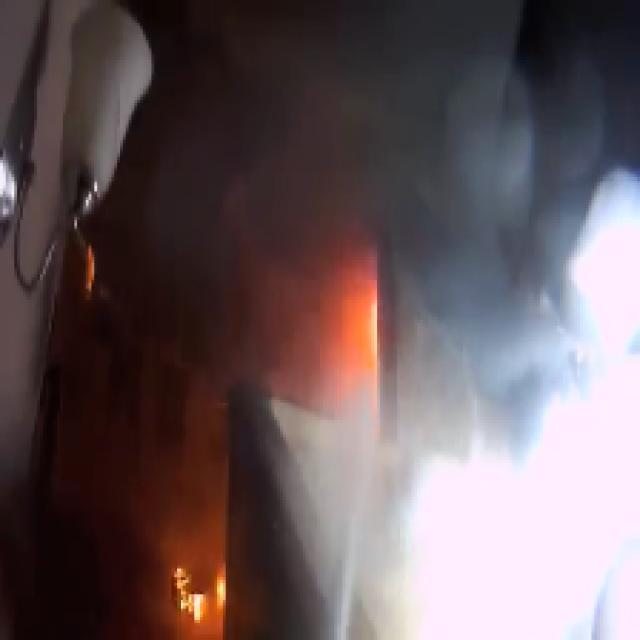Fire: (160, 13, 616, 602)
